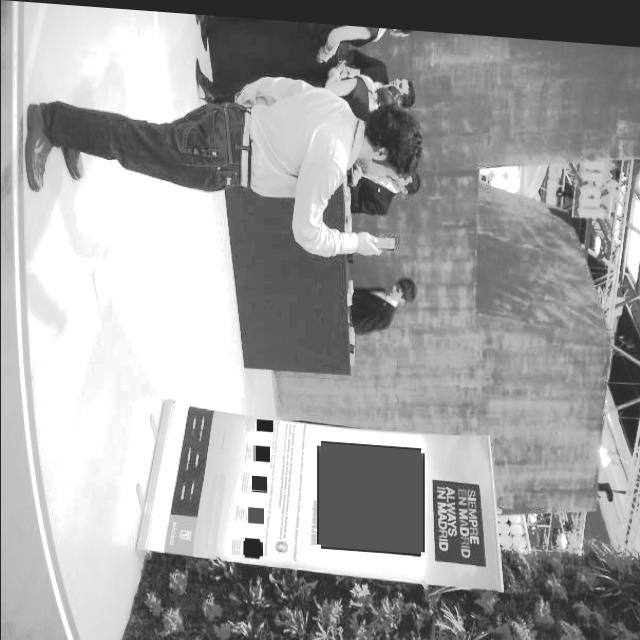qr_code: (318, 438, 422, 548), (243, 535, 260, 553), (247, 503, 263, 520), (252, 441, 268, 458), (251, 472, 266, 488), (256, 415, 272, 428)
